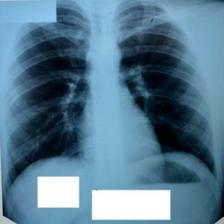tuberculosis: (1, 0, 224, 205)
